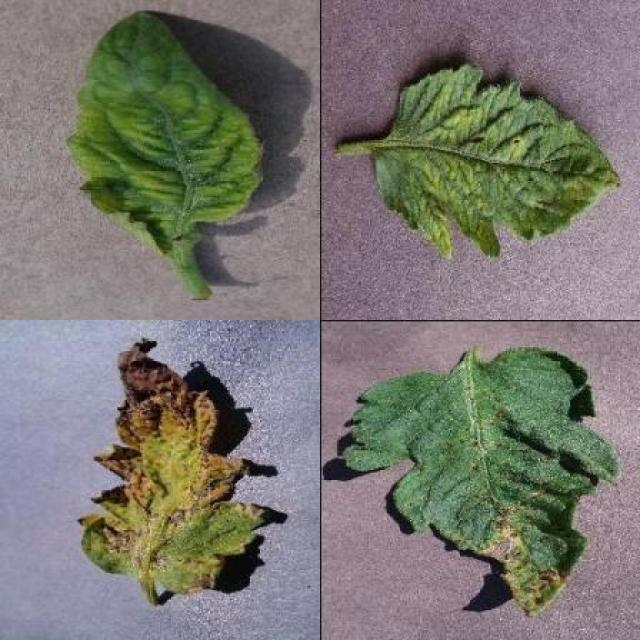Mosaic Virus: (372, 65, 622, 262)
Septoria: (342, 344, 617, 624), (77, 337, 266, 592)
Yellow Leaf Curl Virus: (68, 10, 265, 256)
